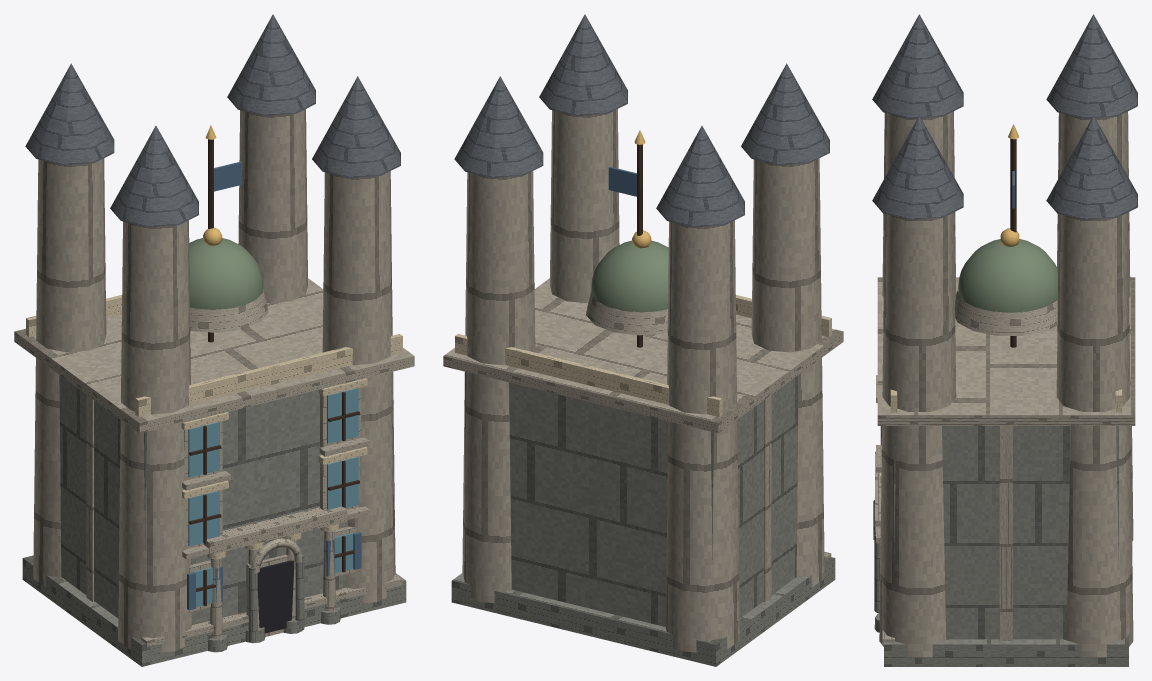
The model's file is procedural_keep@4.glb.
3 views of the same model, side by side, from view 1: azimuth 30°, elevation 25°; view 2: azimuth 150°, elevation 25°; view 3: azimuth 270°, elevation 25° (orthographic). The views are drawn at different scales.
Parts seen in each view (by area): view 1: part_1, part_0, part_7, part_5, part_2, part_8, part_3, part_6, part_4; view 2: part_1, part_0, part_7, part_8, part_5, part_4, part_3; view 3: part_1, part_0, part_7, part_8, part_3, part_9.
Part boxes in pixels (x1,y1,x2,y2): part_1: [14, 109, 414, 652]; part_0: [22, 371, 406, 666]; part_7: [25, 14, 400, 227]; part_5: [26, 295, 402, 559]; part_2: [188, 388, 358, 606]; part_8: [189, 238, 262, 309]; part_3: [189, 139, 359, 606]; part_6: [257, 561, 294, 633]; part_4: [187, 161, 361, 610]; part_1: [443, 109, 843, 652]; part_0: [451, 371, 835, 666]; part_7: [454, 14, 829, 227]; part_8: [591, 240, 668, 312]; part_5: [455, 295, 831, 417]; part_4: [608, 166, 636, 196]; part_3: [637, 144, 642, 347]; part_1: [873, 111, 1135, 657]; part_0: [874, 426, 1128, 666]; part_7: [872, 14, 1137, 220]; part_8: [958, 239, 1058, 312]; part_3: [881, 139, 1016, 445]; part_9: [1000, 124, 1019, 246].
Size of the model in its own units: 9.16 by 16.3 by 7.32.
10 materials, 5 textured.
